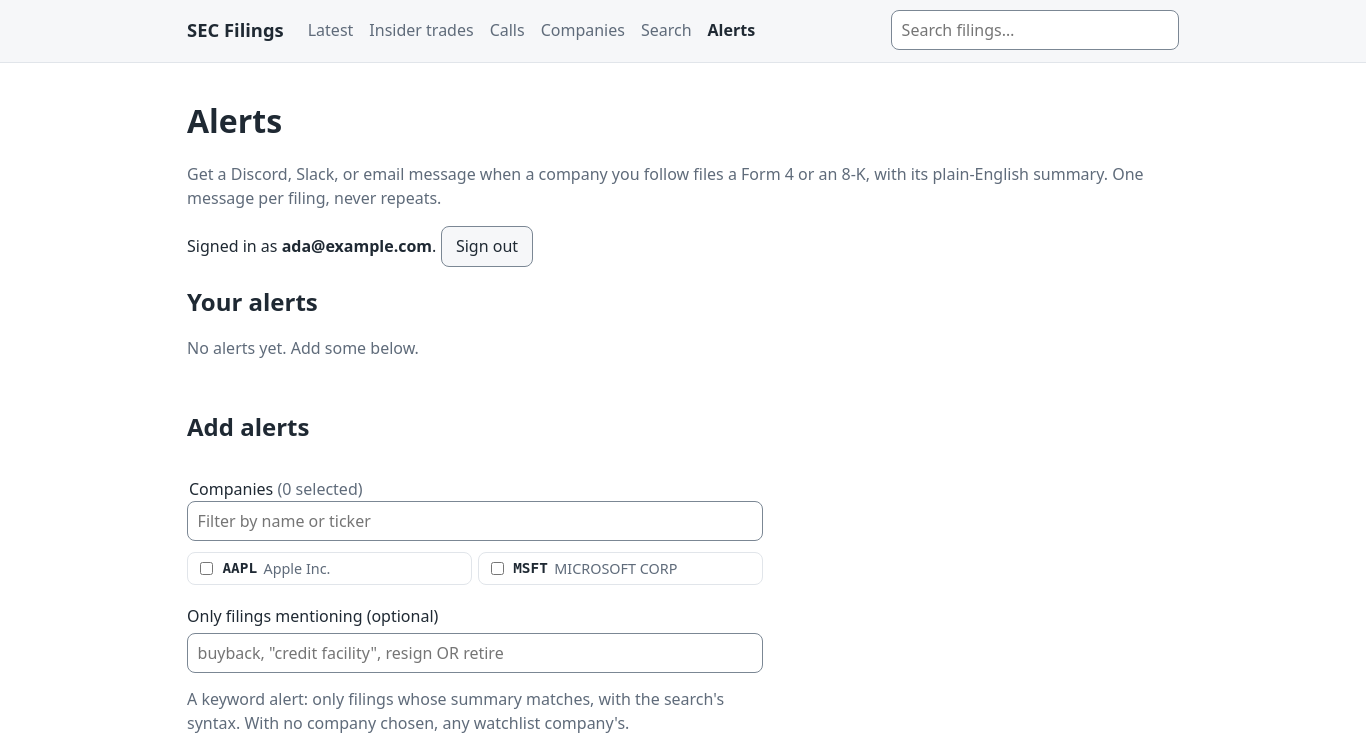
Test: AlertsPage › shows API errors
Step 1. Click the checkbox labelled "AAPL Apple Inc." → {"x": 206, "y": 569}, box [200,562,213,575]
(page scrolled)
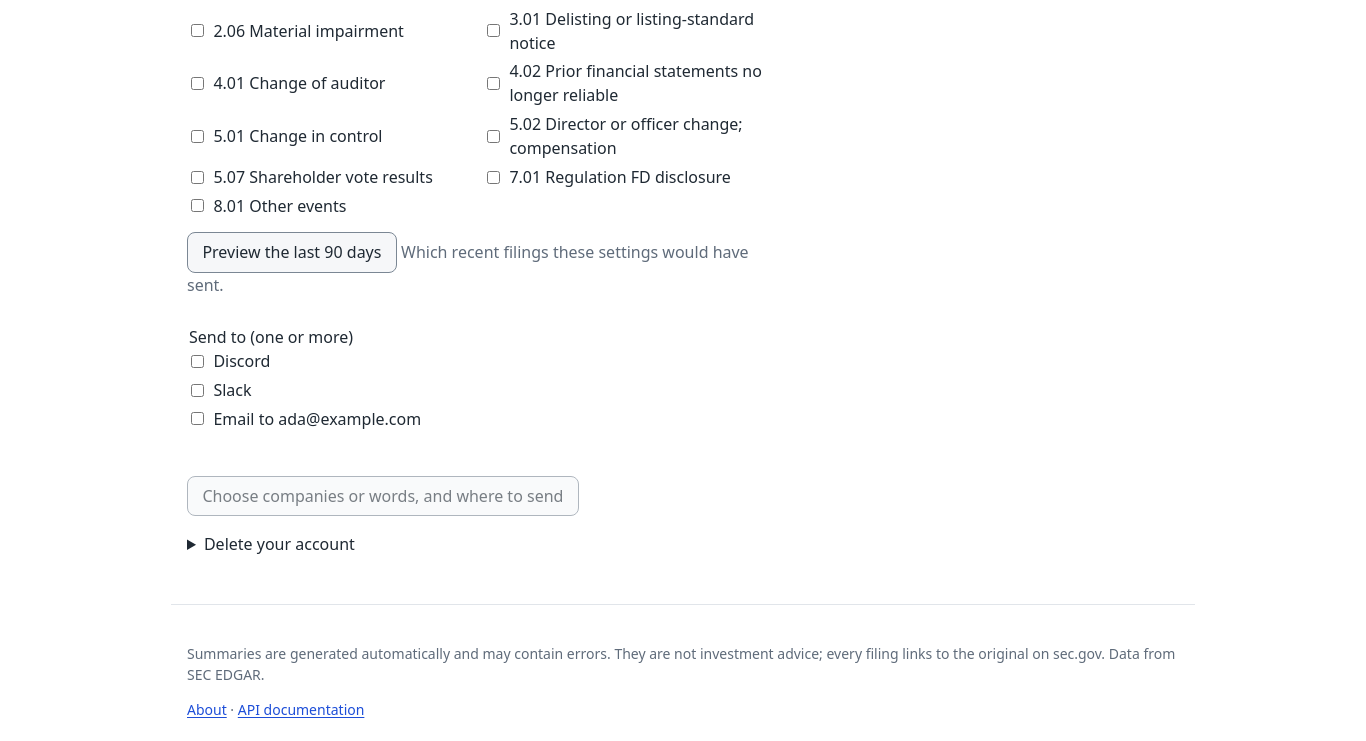
Step 2. Click the checkbox labelled "Email to ada@example.com" → {"x": 198, "y": 419}, box [191,412,204,426]
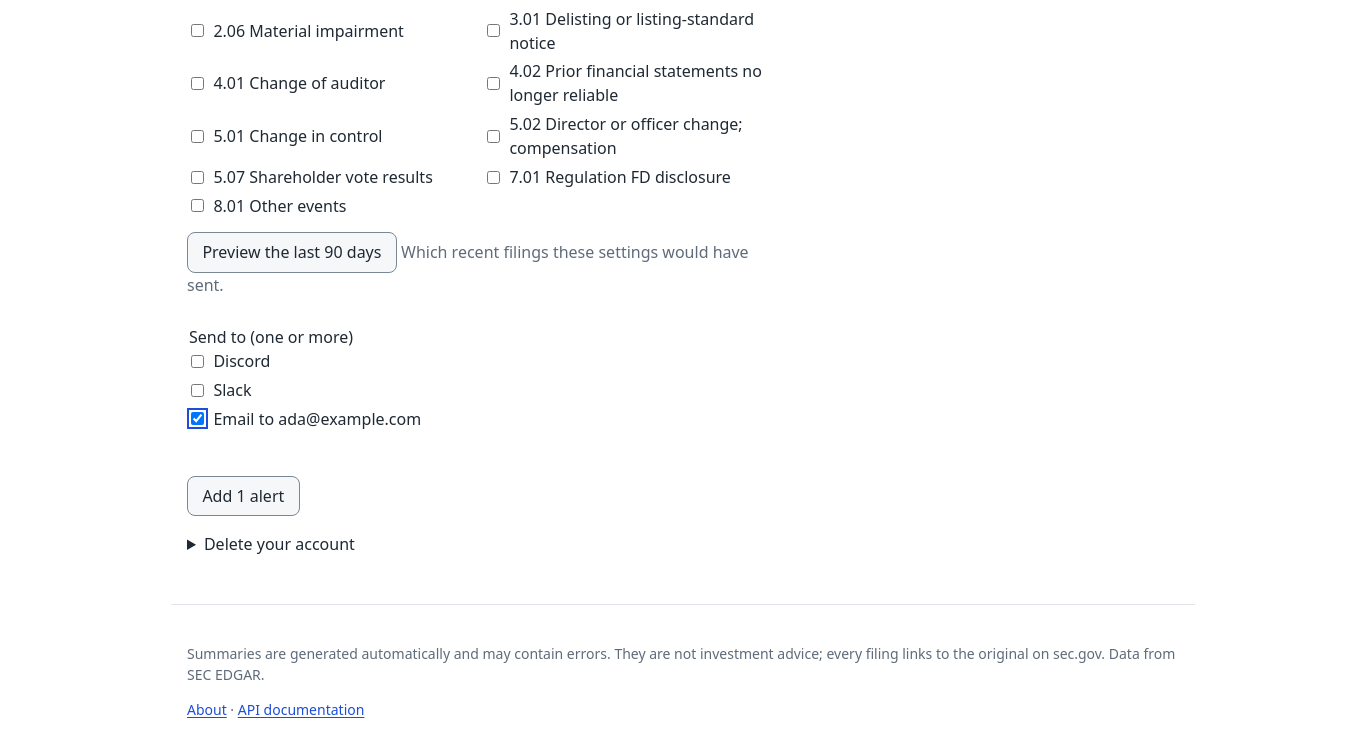
Step 3. Click the button "Add 1 alert" → {"x": 243, "y": 496}, box [187,476,300,516]
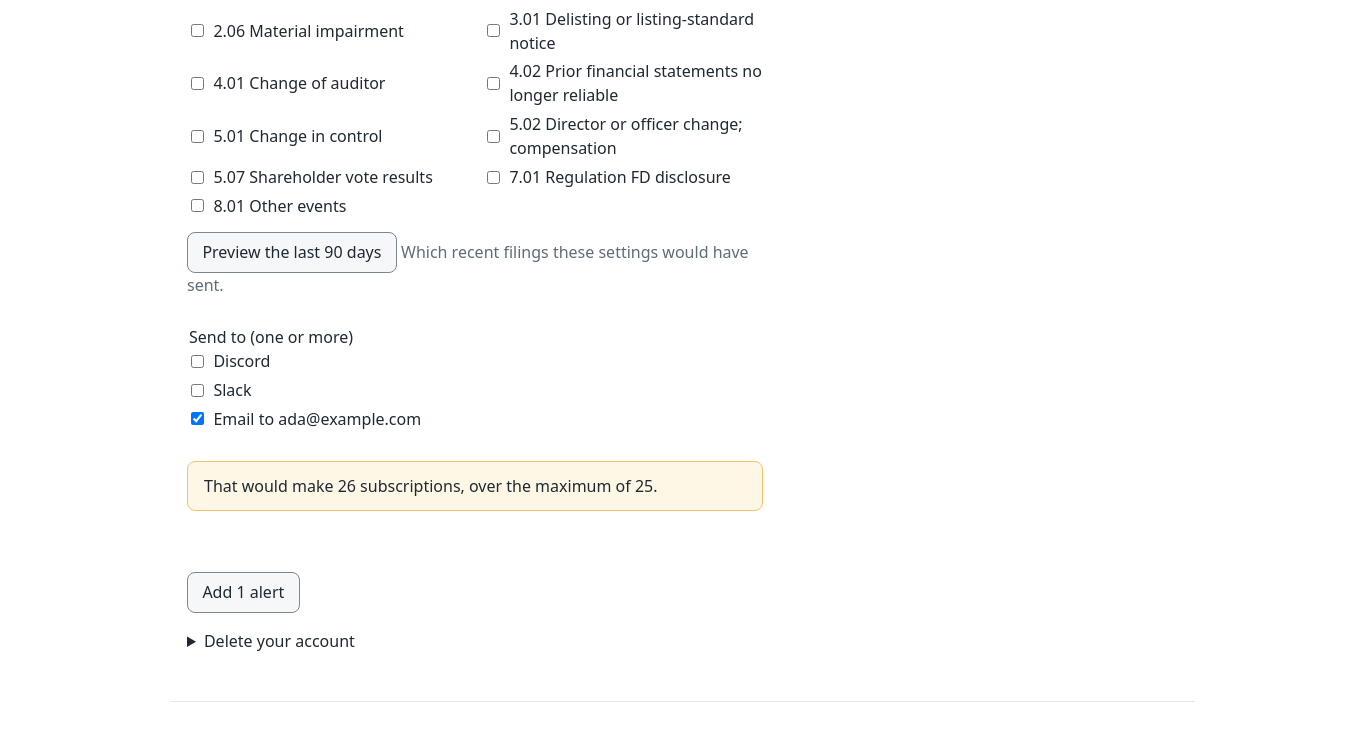
Expected: the message shows "over the maximum of 25", [204,475,658,497]
